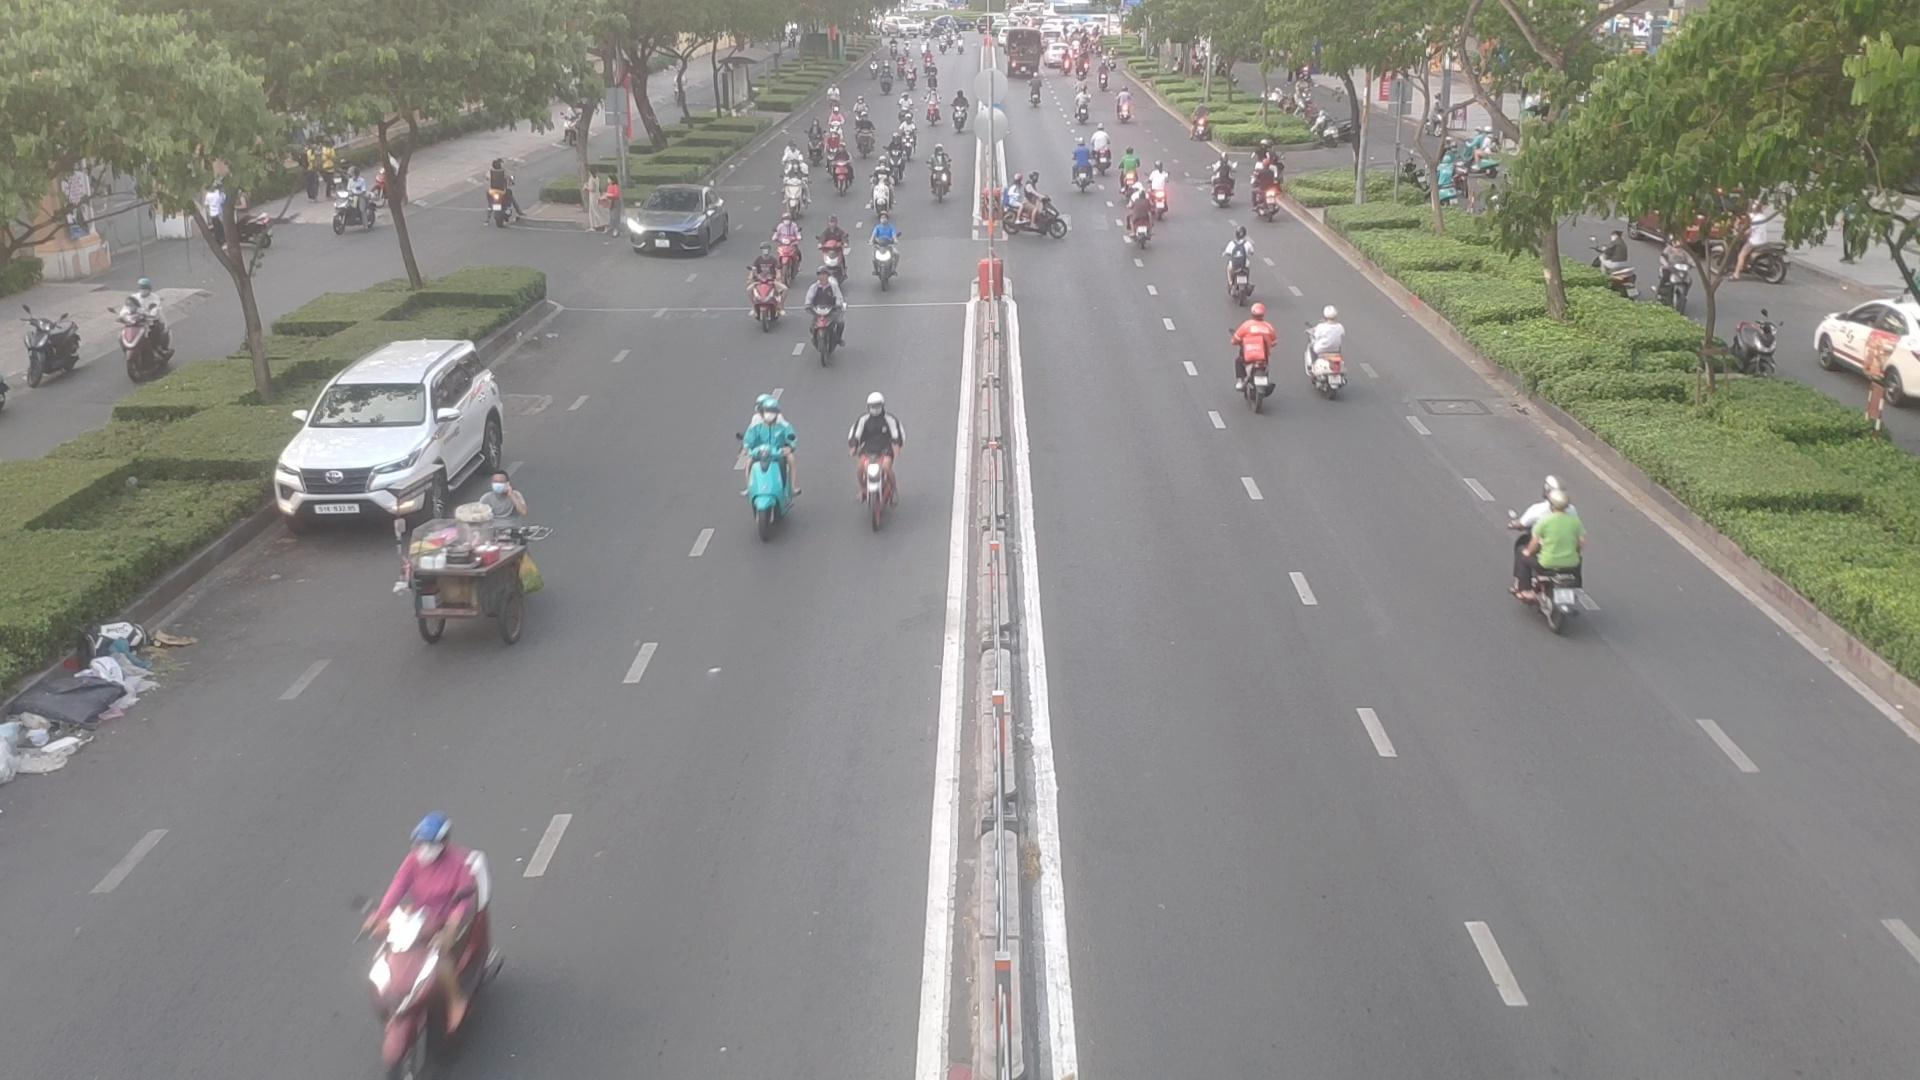car: (276, 342, 521, 525), (609, 194, 737, 258)
motorbike: (347, 819, 509, 1055), (1507, 485, 1604, 640), (724, 400, 800, 549), (843, 393, 909, 545), (1305, 314, 1364, 404), (1233, 316, 1284, 409), (738, 255, 787, 334), (806, 285, 855, 363), (860, 220, 905, 290), (1226, 247, 1271, 311), (814, 222, 858, 285), (1141, 167, 1180, 219), (1064, 146, 1102, 195), (1124, 200, 1159, 252), (927, 158, 957, 203), (829, 152, 857, 194)
